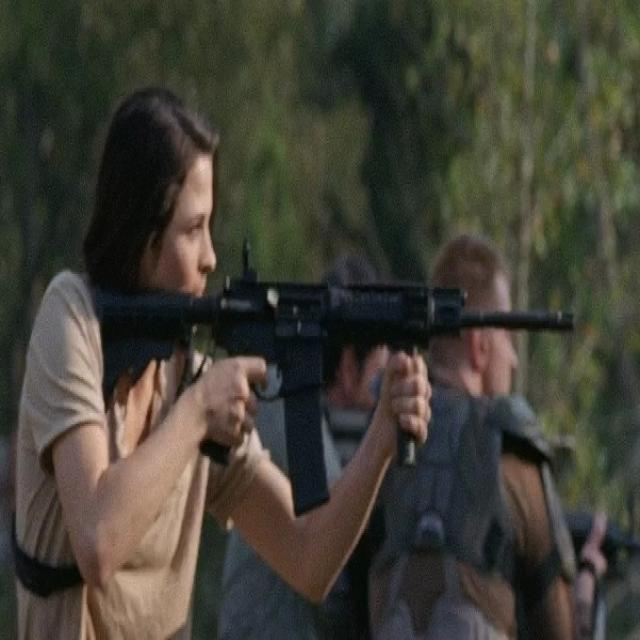rifle: (88, 238, 579, 528)
